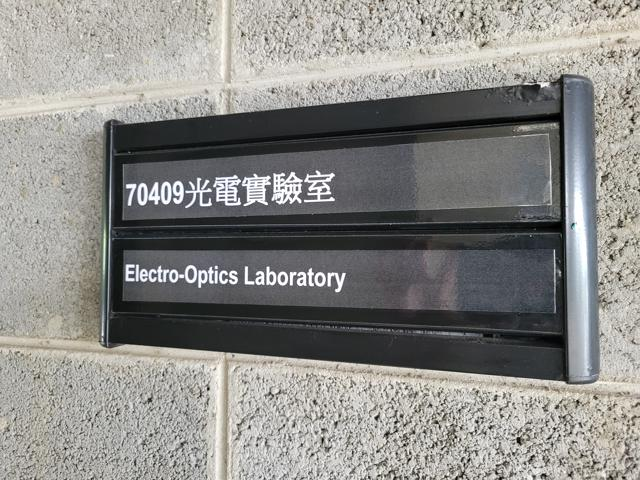doorplate: (92, 65, 606, 388)
